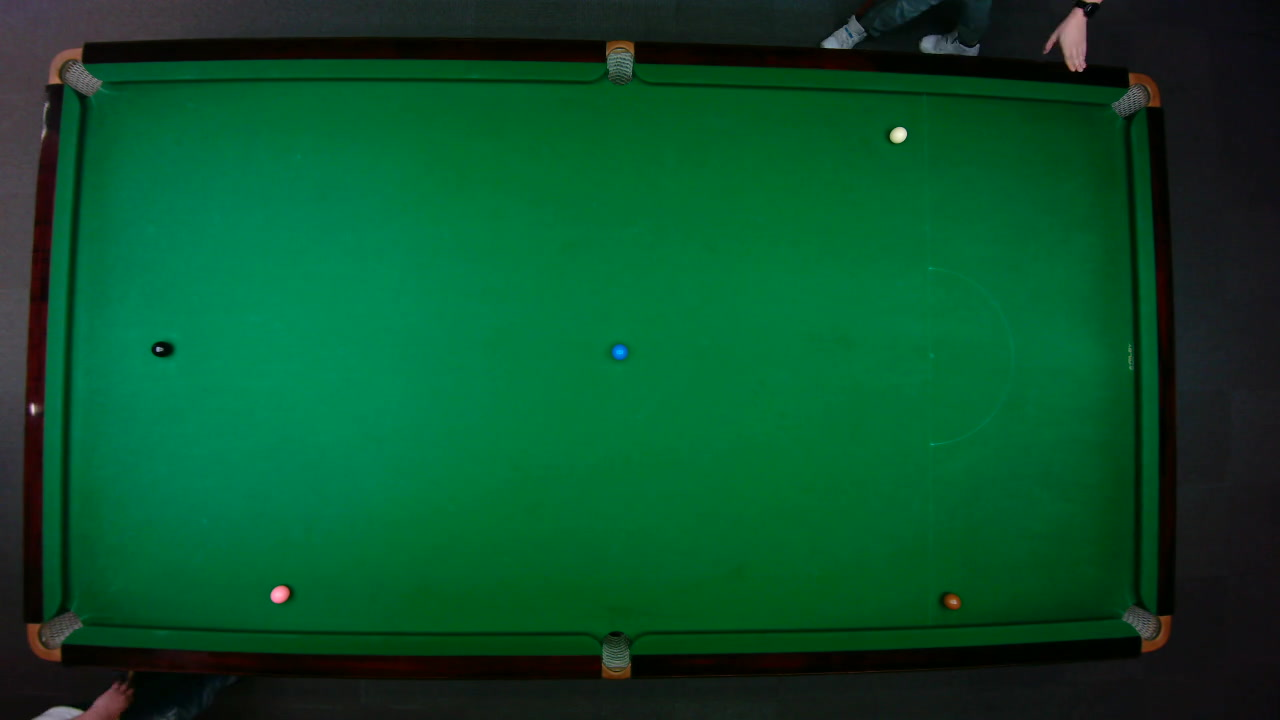bag: (25, 609, 83, 661), (46, 47, 102, 96), (1119, 603, 1171, 651), (1108, 71, 1161, 118), (600, 629, 630, 680), (605, 38, 633, 85)
black: (149, 339, 171, 357)
blue: (610, 342, 628, 360)
brown: (941, 592, 961, 610)
pink: (268, 583, 290, 604)
white: (887, 125, 908, 143)
zone: (926, 266, 1013, 445)
